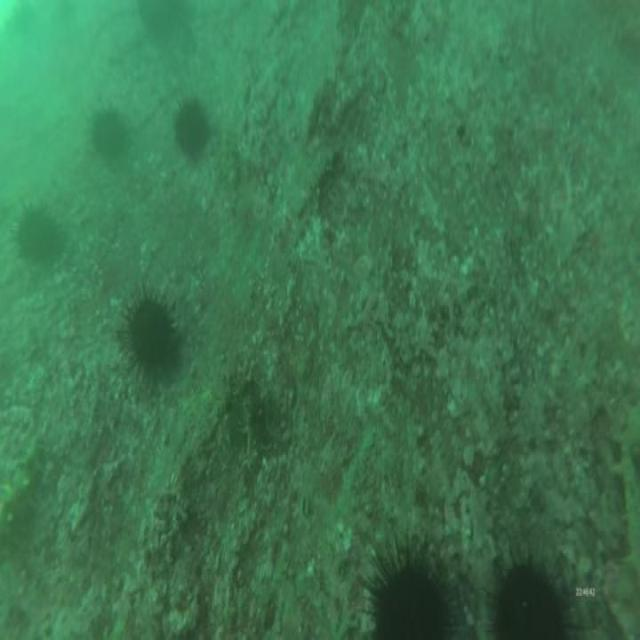echinus: (352, 526, 466, 640), (485, 545, 585, 640), (112, 280, 184, 400), (11, 194, 65, 269), (169, 90, 213, 171), (85, 100, 132, 172)
holothurian: (615, 393, 640, 591), (0, 444, 36, 576)
waterweeds: (140, 0, 191, 43)
